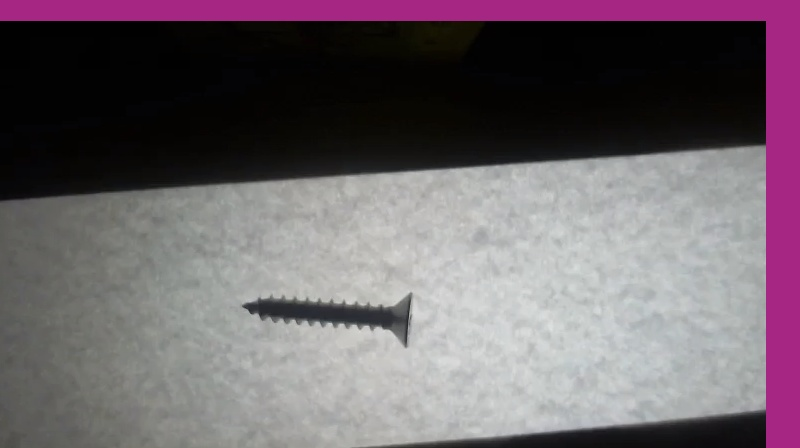S001: (237, 284, 415, 346)
